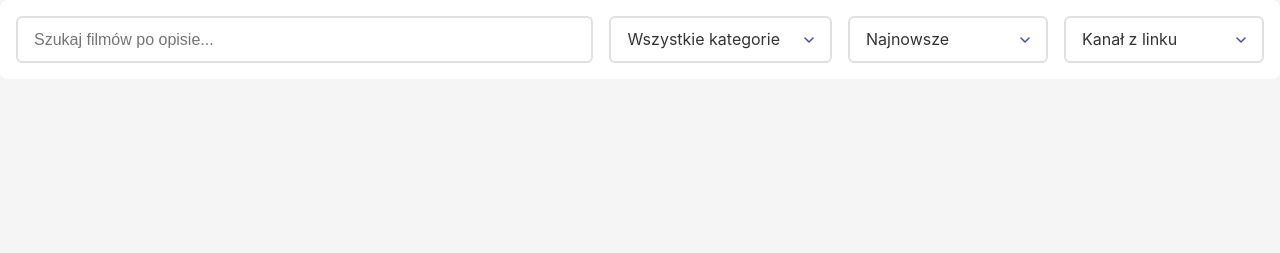
Test: SearchBar › channel and date filters › keeps a channel that only the URL names, among the uncategorized ones
Click the dropdown labelled "Kanał".
click(1164, 40)  # box x1=1064 y1=16 x2=1264 y2=63
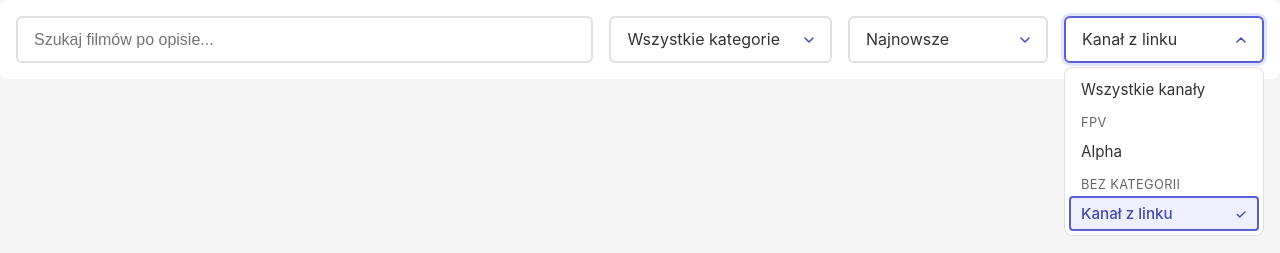
Result: the element "Bez kategorii" shows "Kanał z linku" at x1=1081 y1=204 x2=1173 y2=223
